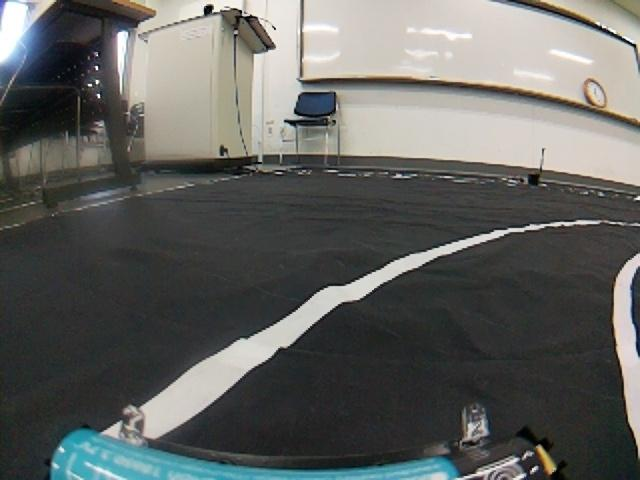right: (7, 197, 640, 480)
